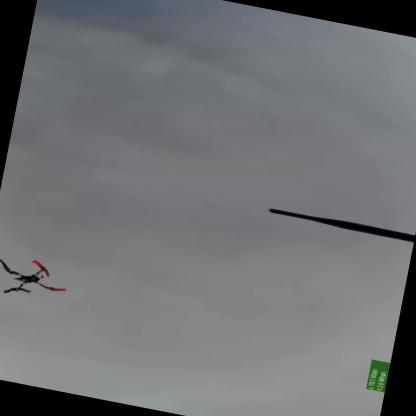drone: (0, 243, 75, 308)
